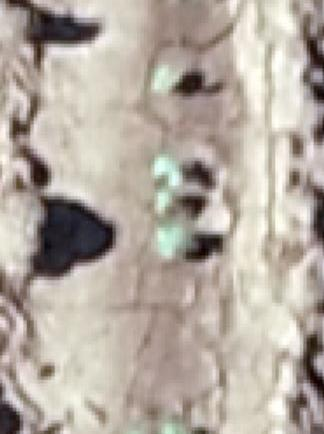cotton: (156, 153, 182, 182), (159, 228, 187, 253), (153, 66, 176, 90), (155, 191, 175, 209)
